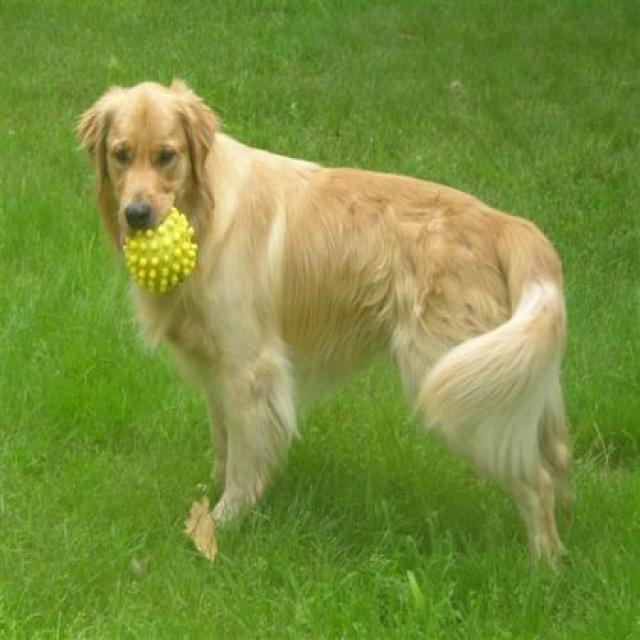dogs: (74, 76, 574, 569)
